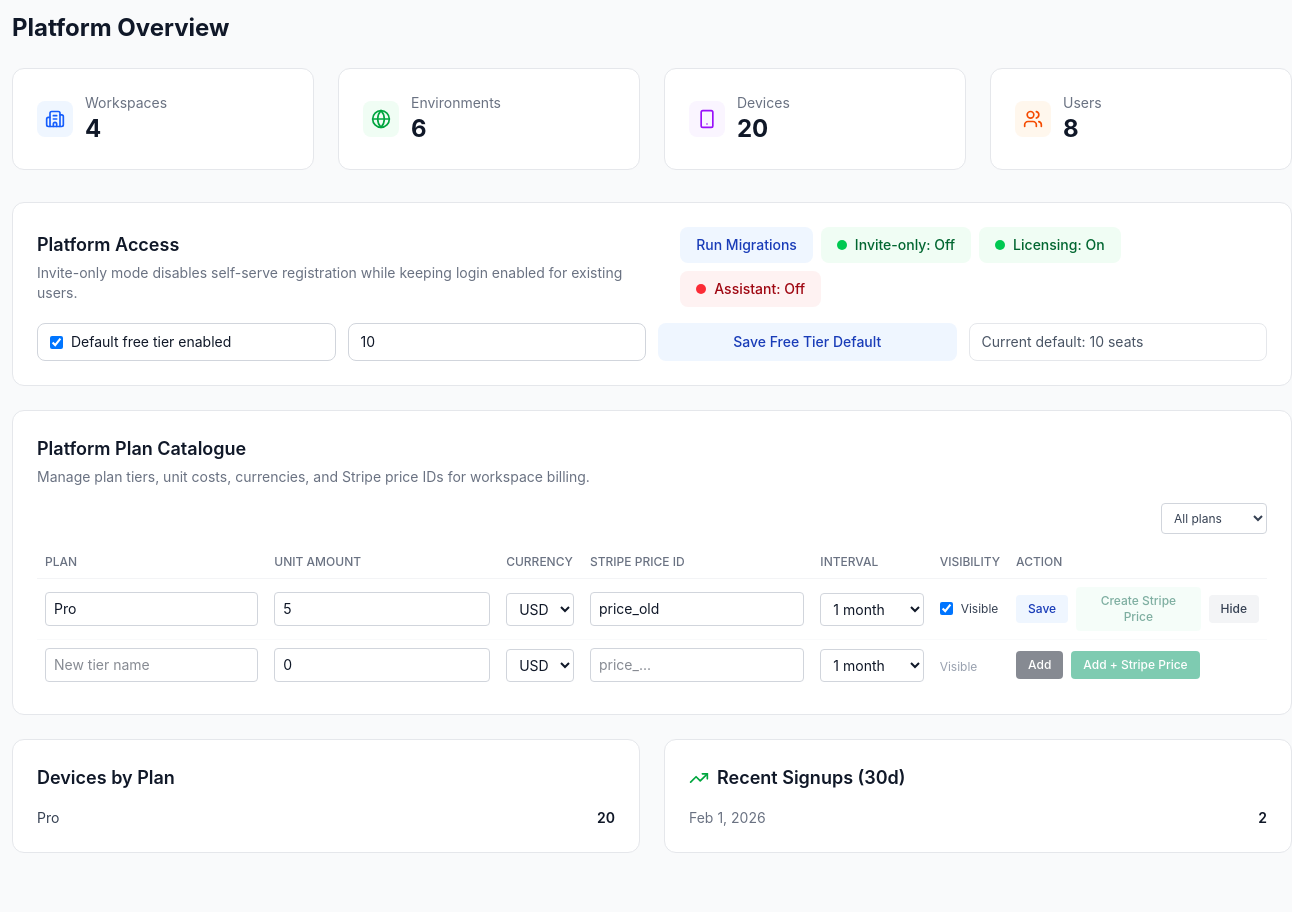
Scenario: SuperadminDashboard plan catalog › shows unsaved changes indicator for edited rows
This screenshot has width=1292, height=912.
Check: the text "Unsaved changes" is not shown
Replace the text in the 1st field showing "Pro" with "Pro Plus" at (152, 609), box x1=45 y1=592 x2=258 y2=626
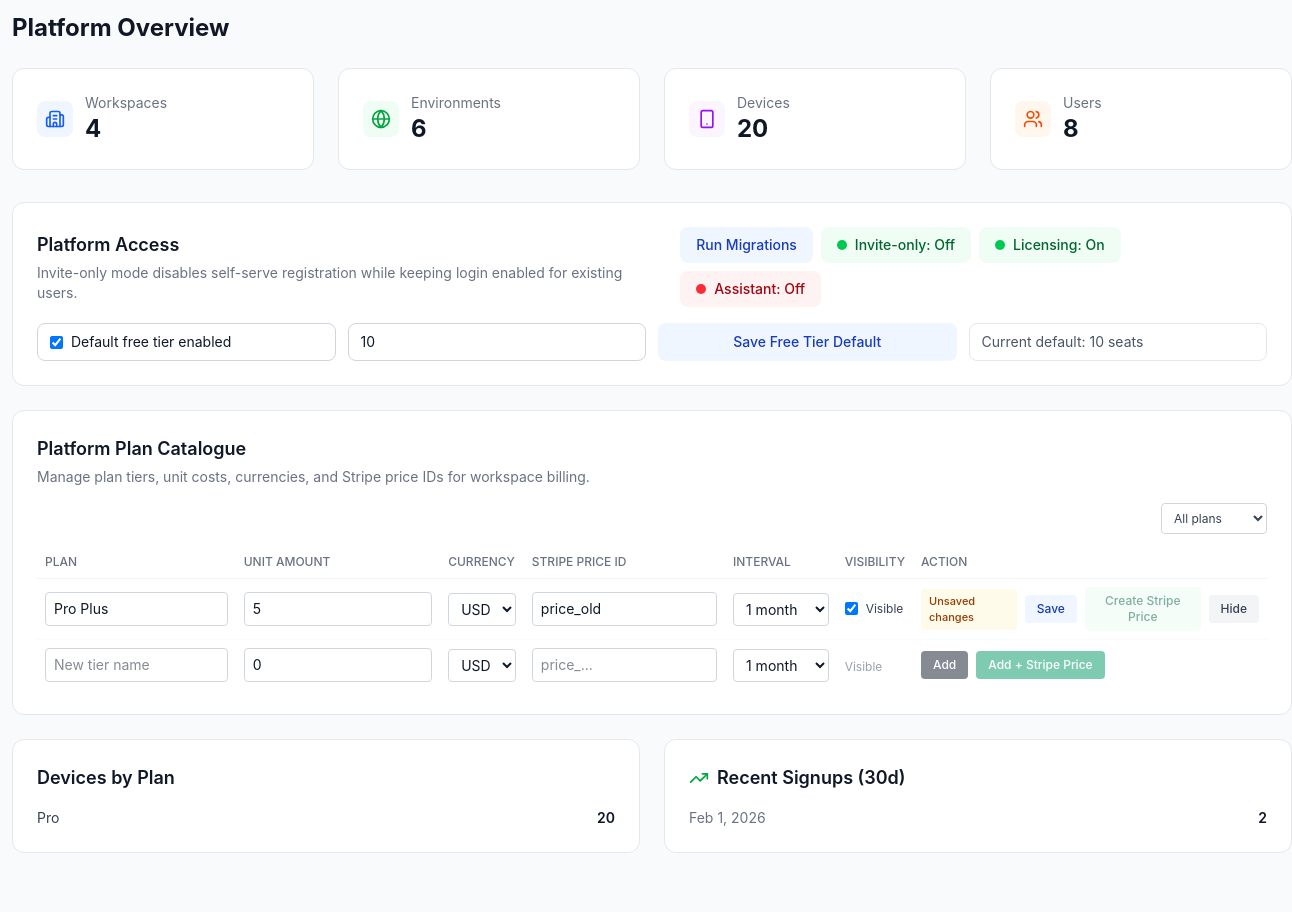
Check: the text "Unsaved changes" is shown, box x1=921 y1=588 x2=1017 y2=630
